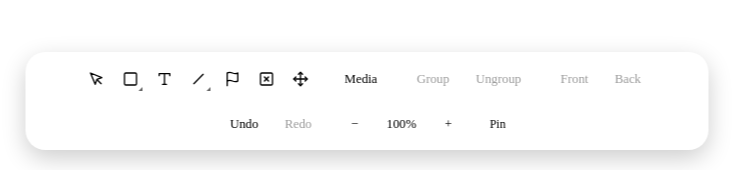
Scenario: Illustrator-style tool-group flyouts › holding the Shapes slot past the hold threshold opens a flyout with its other tools
The width and height of the screenshot is (735, 170).
Press the mouse on the button named "Rect" at (131, 79), box [116,64,146,94]
Wait 401 ms
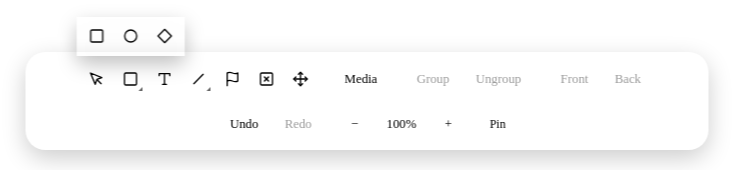
Result: the menu is shown at [77,17,185,56]
Result: the menu item named "Ellipse" is shown at [116,21,146,51]
Result: the menu item named "Diamond" is shown at [150,21,180,51]
